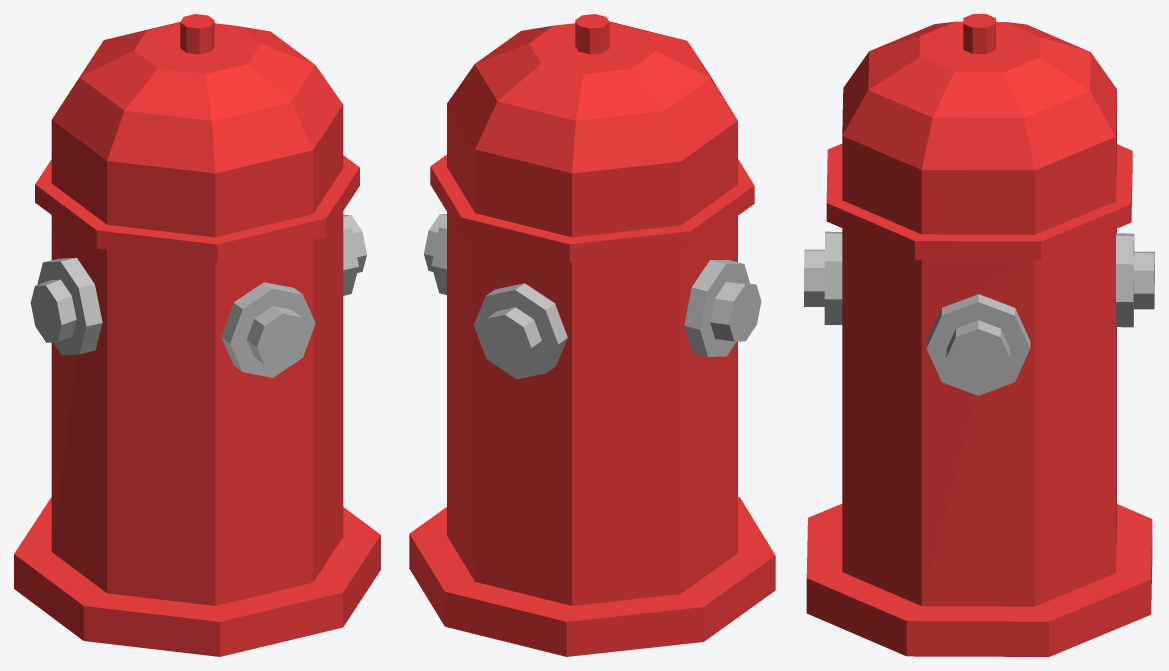
Rendered from hydrant.fbx.
3 renders of one model, left to right at view 1: azimuth 30°, elevation 25°; view 2: azimuth 150°, elevation 25°; view 3: azimuth 270°, elevation 25°, orthographic.
Parts seen in each view (by area): view 1: Hydrant; view 2: Hydrant; view 3: Hydrant.
Part boxes in pixels (bbox=[...]): Hydrant: bbox=[14, 14, 380, 656]; Hydrant: bbox=[409, 14, 775, 656]; Hydrant: bbox=[804, 14, 1154, 656].
Bounding box in the file's own units: 99.67 × 174 × 98.13.
